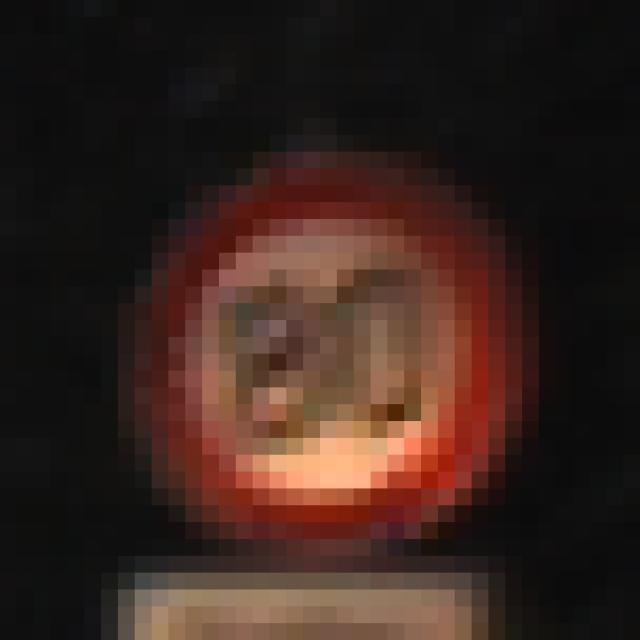Ograniczenie predkosci do 80: (125, 161, 515, 577)
